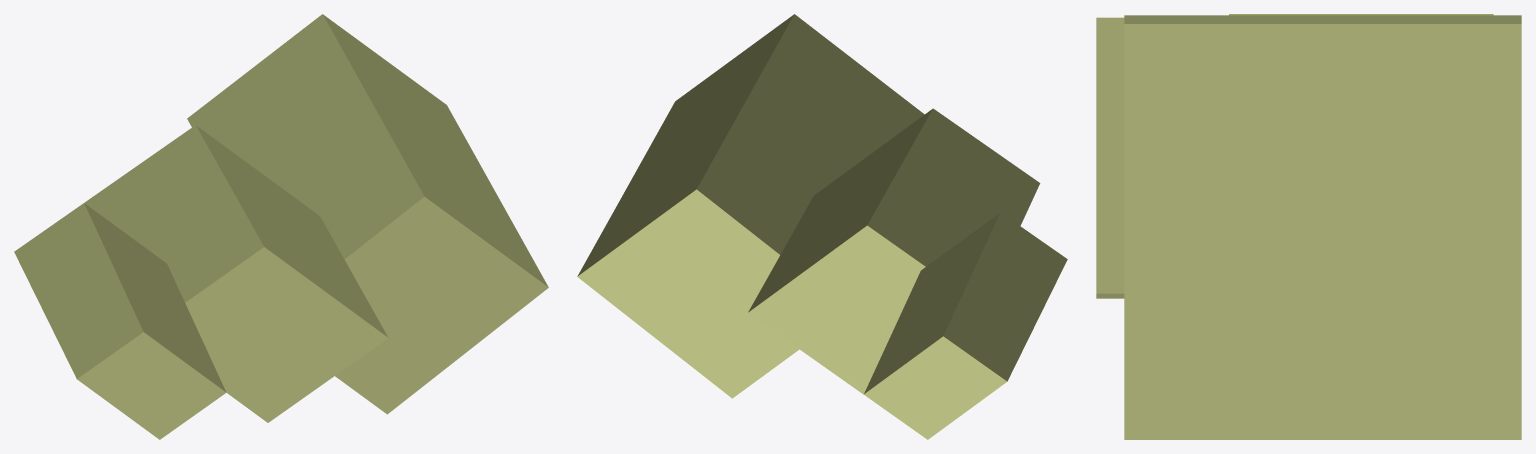
3 views of the same model, side by side, from view 1: azimuth 30°, elevation 25°; view 2: azimuth 150°, elevation 25°; view 3: azimuth 270°, elevation 25° (orthographic). The views are drawn at different scales.
Visible parts, largest first — view 1: 0_1_1_3_2_2_0_3_2_1; view 2: 0_1_1_3_2_2_0_3_2_1; view 3: 0_1_1_3_2_2_0_3_2_1.
Boxes of the visible parts, x1=… form: 0_1_1_3_2_2_0_3_2_1: x1=14, y1=14, x2=548, y2=439; 0_1_1_3_2_2_0_3_2_1: x1=577, y1=14, x2=1067, y2=439; 0_1_1_3_2_2_0_3_2_1: x1=1096, y1=14, x2=1521, y2=439.
Size of the model in its own units: 17.51 by 11.85 by 9.63.
